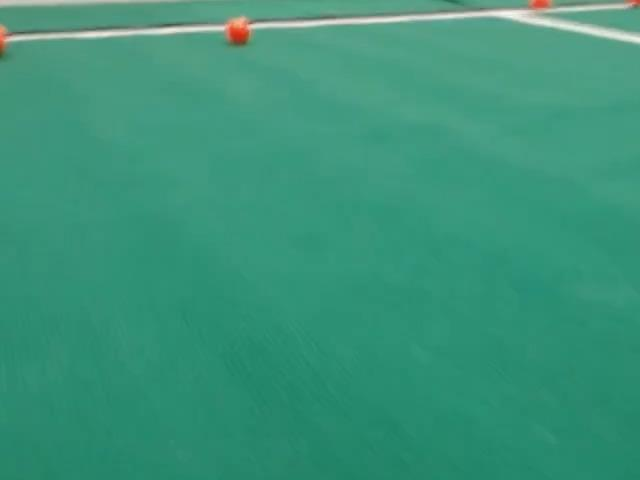Ball: (225, 17, 251, 45), (0, 25, 6, 56)
